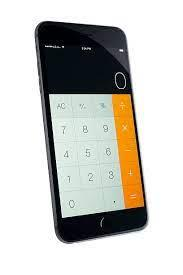Calculator: (45, 90, 145, 213)
